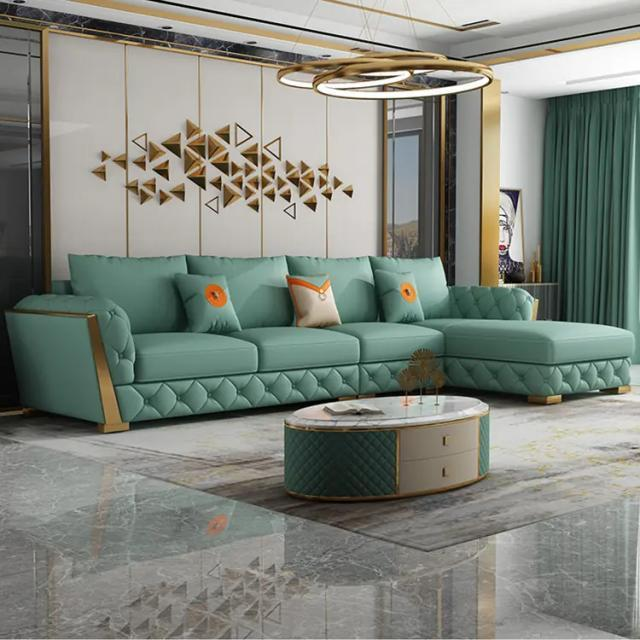sofa: (4, 252, 635, 434)
